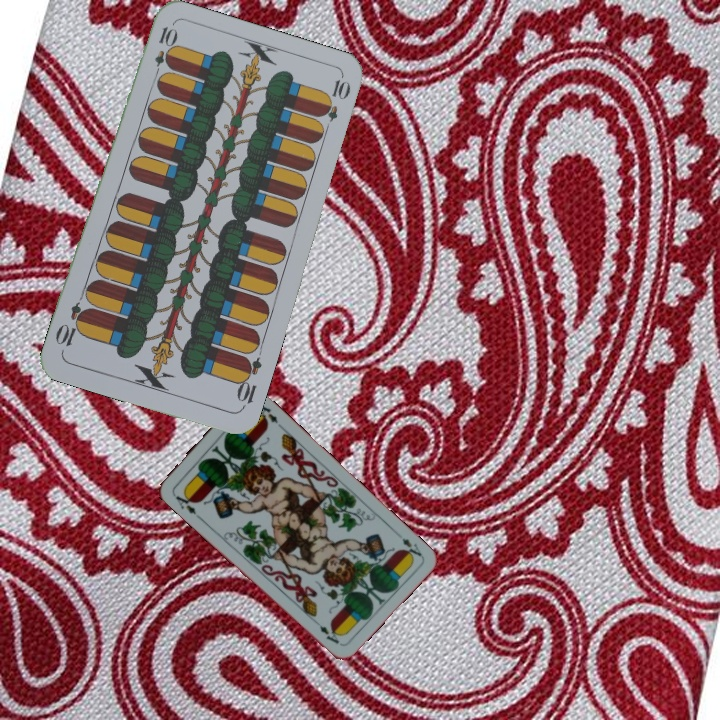E10: (232, 353, 264, 412), (150, 22, 177, 81)
EA: (169, 488, 203, 521), (398, 534, 424, 562)
